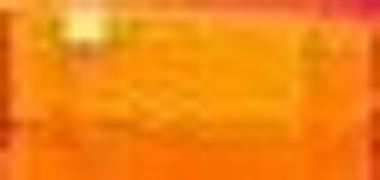Hotspot: (60, 2, 123, 47)
